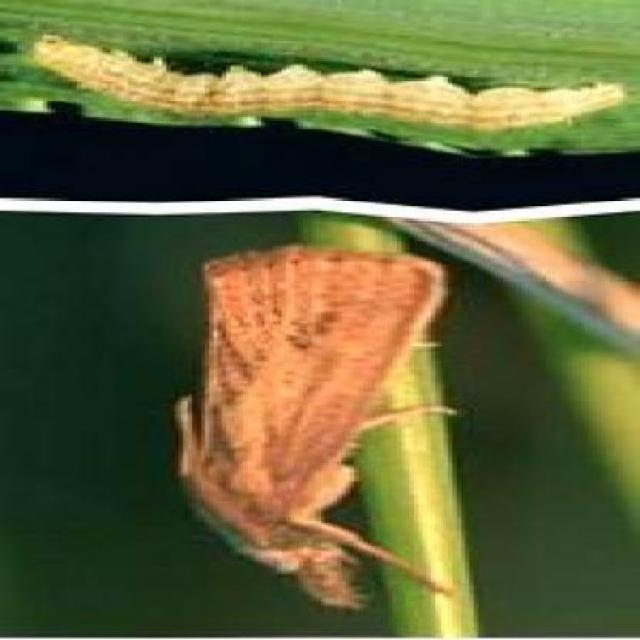stem-borer: (163, 243, 459, 611)
